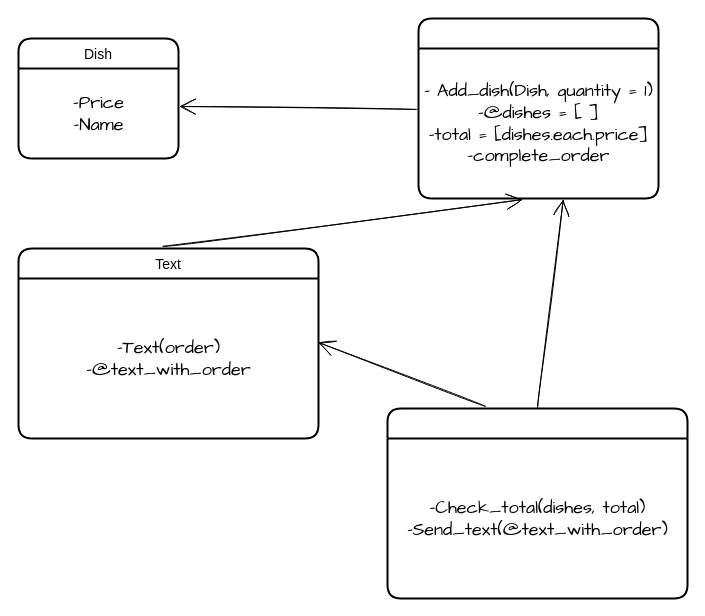
Image size: 705x616. Some labels were removed from this diagram. The box of each missing label's shape, as (x1, y1, x2, y2) in pixels:
Orders: (417, 17, 659, 199)
Restaurant: (386, 407, 688, 599)
